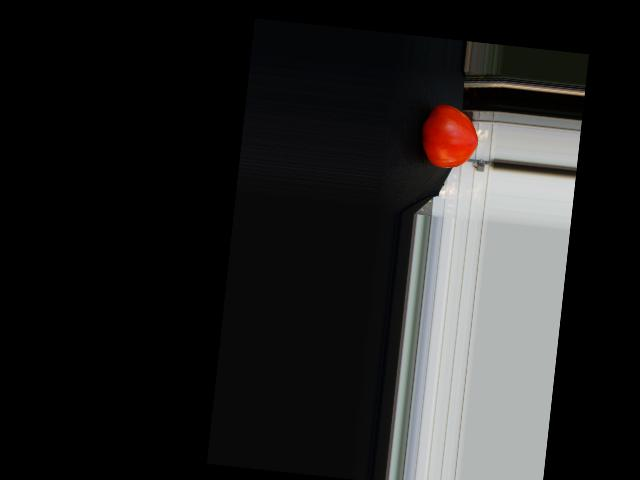tomato: (418, 102, 481, 171)
